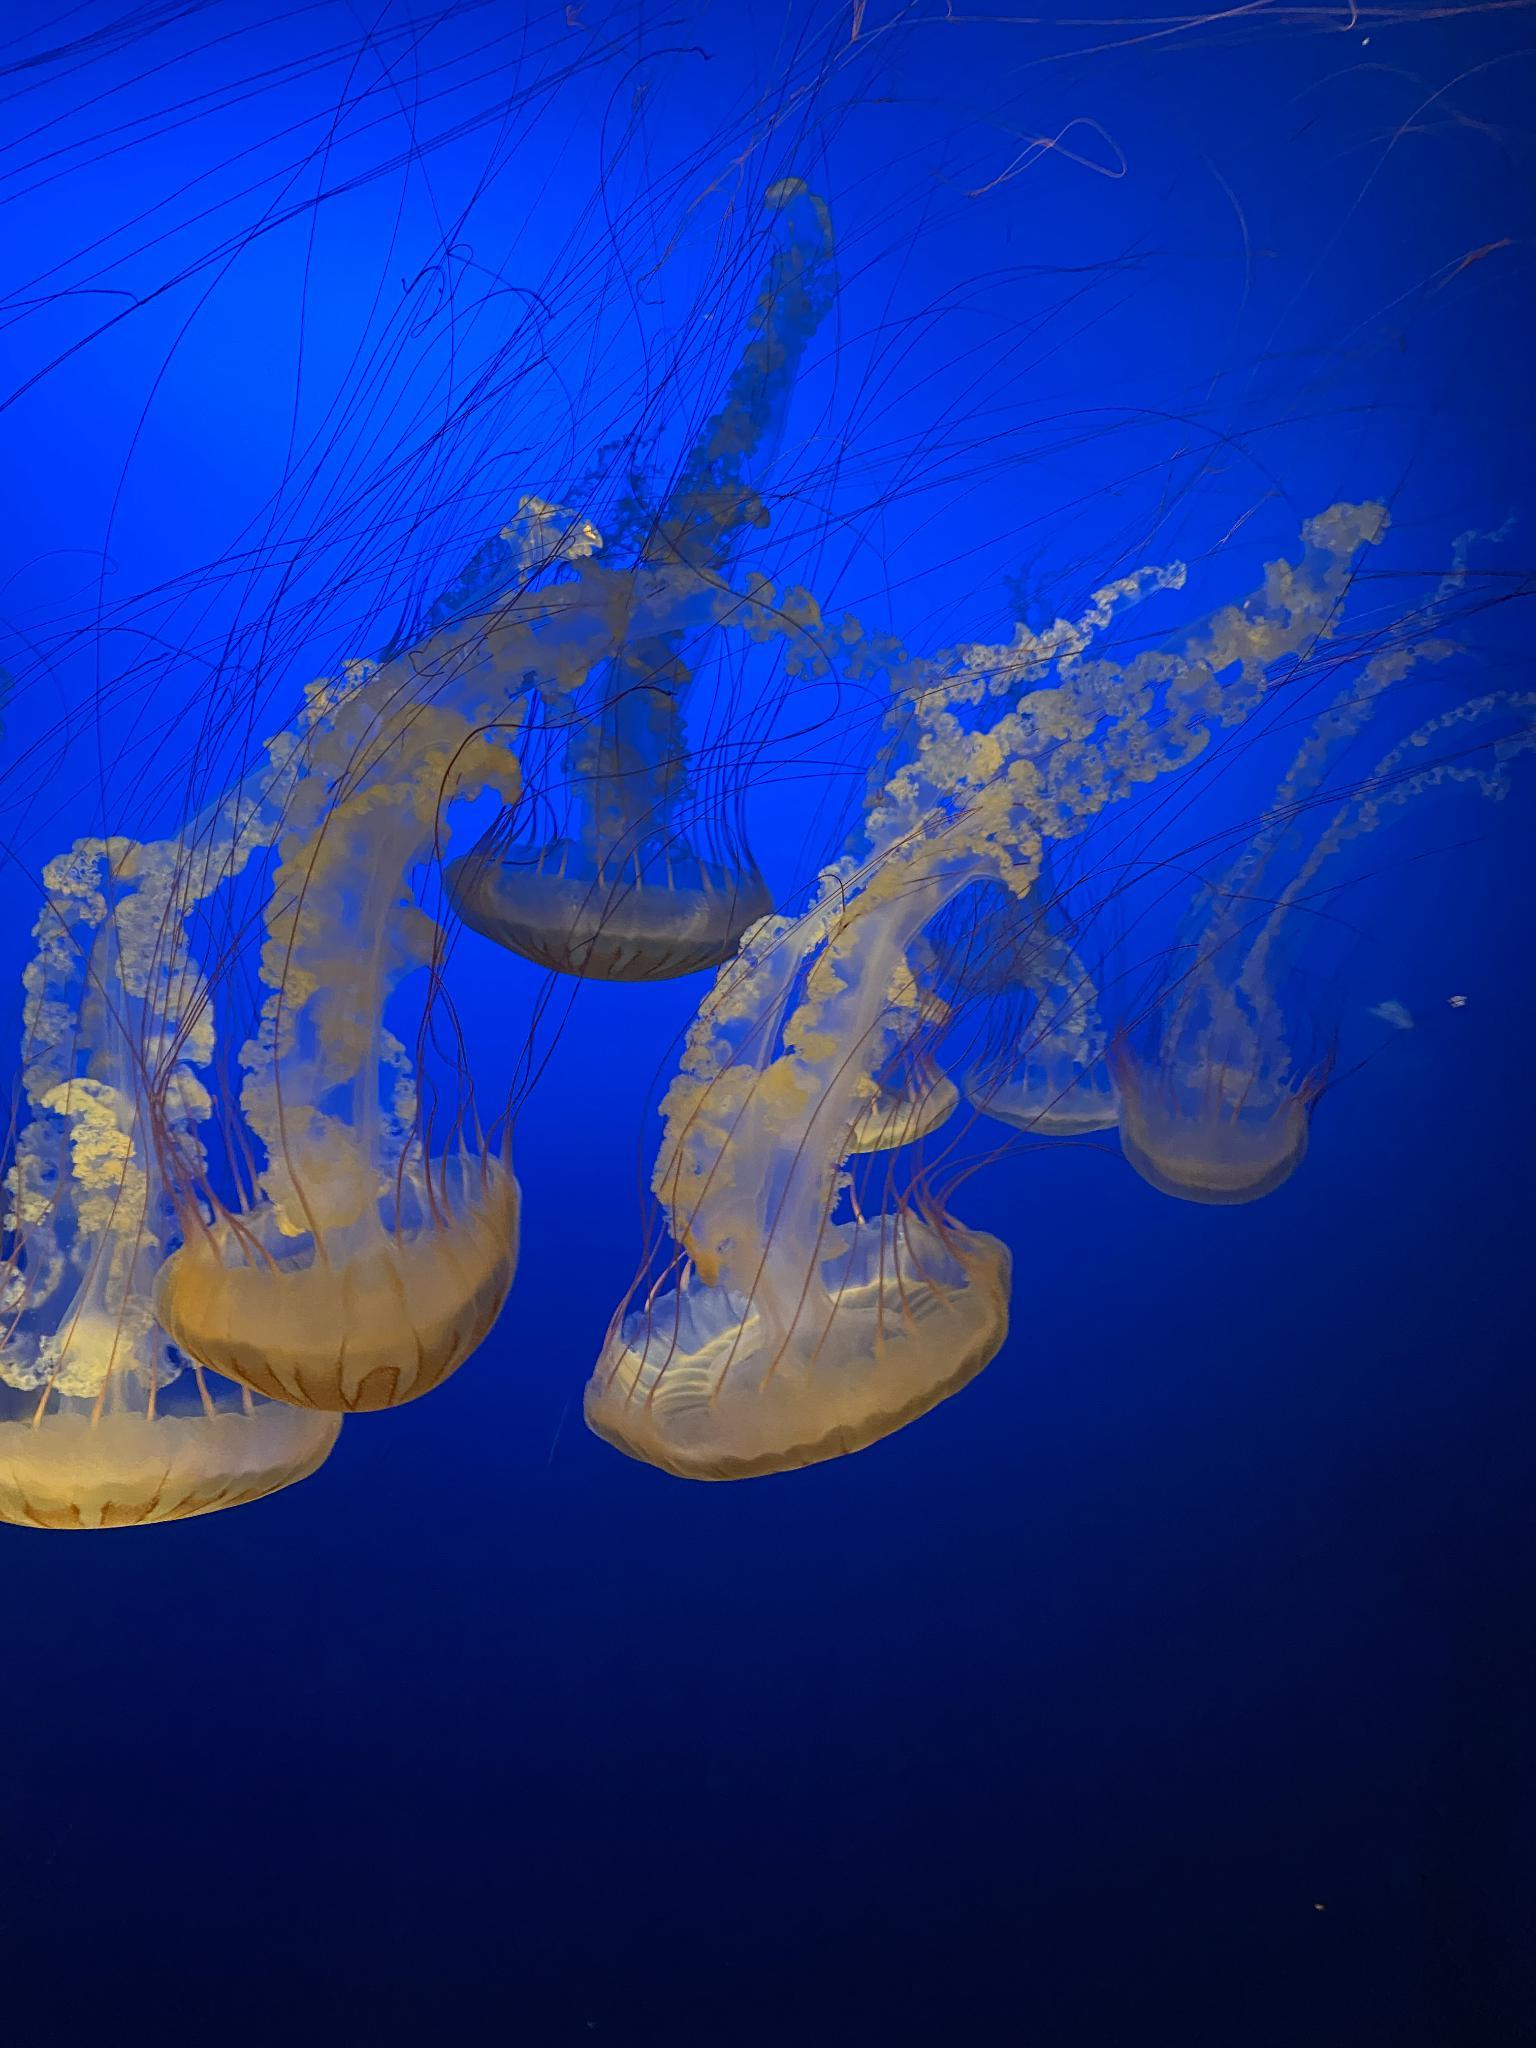jellyfish: (581, 1213, 1012, 1480), (152, 1150, 520, 1413), (444, 837, 776, 980), (0, 1397, 342, 1529), (1120, 1059, 1317, 1208), (829, 1071, 962, 1161), (954, 1066, 1128, 1130)
